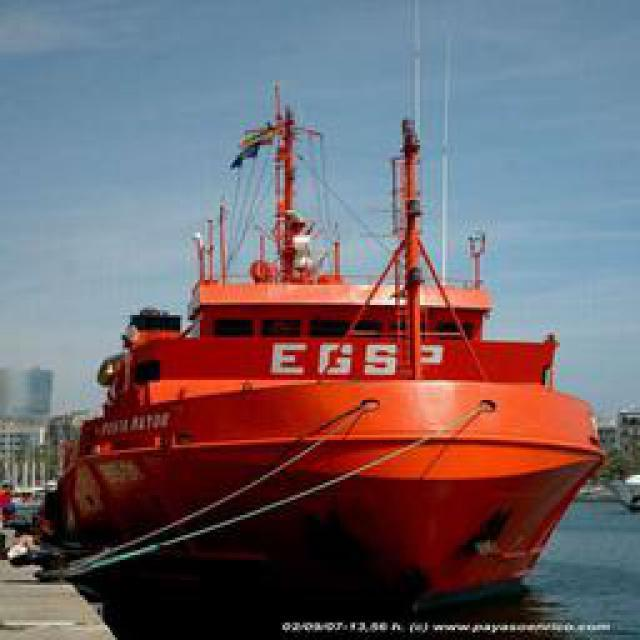Ship: (42, 47, 615, 625)
